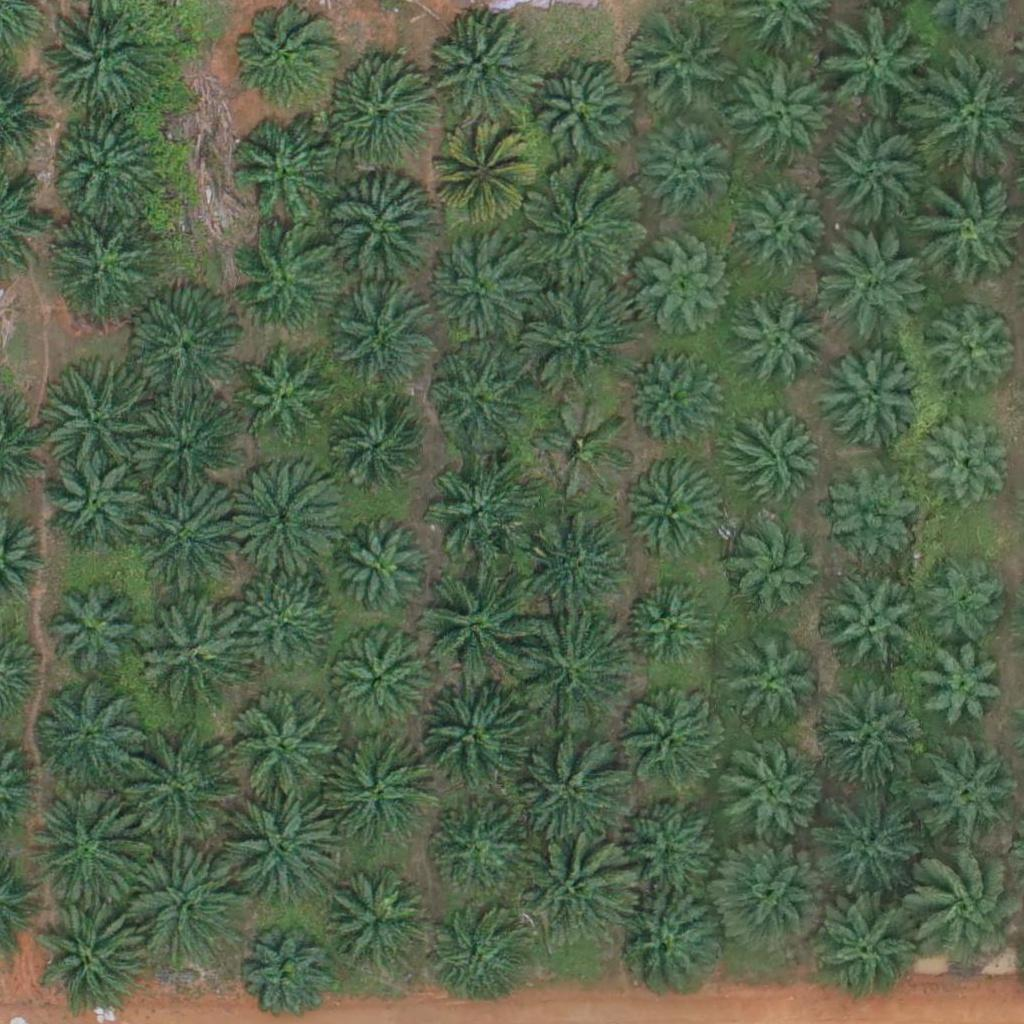Kelapa_Sawit: (418, 677, 531, 791), (225, 461, 338, 575), (134, 477, 247, 591), (128, 854, 241, 968), (25, 794, 138, 908), (51, 104, 164, 218), (42, 9, 155, 123), (817, 117, 930, 230), (811, 686, 924, 799), (811, 787, 924, 900), (807, 894, 920, 1007), (512, 731, 625, 844), (515, 502, 628, 615), (519, 282, 632, 395), (523, 170, 636, 283), (417, 571, 530, 684), (326, 177, 439, 290), (320, 735, 433, 848), (228, 119, 341, 232), (230, 696, 343, 809), (139, 595, 252, 708), (820, 13, 933, 126), (522, 58, 635, 171), (816, 234, 928, 348), (515, 616, 627, 730), (231, 224, 343, 338), (32, 678, 144, 792), (910, 173, 1022, 286), (907, 738, 1019, 851), (716, 842, 828, 955), (610, 888, 722, 1001), (515, 836, 627, 949), (423, 450, 535, 563), (322, 872, 434, 985), (232, 793, 344, 906), (132, 299, 244, 412), (121, 728, 233, 841), (37, 905, 149, 1018), (43, 207, 155, 320), (43, 355, 155, 468), (728, 46, 840, 159), (622, 9, 734, 122), (425, 15, 537, 128), (315, 59, 427, 172), (923, 295, 1023, 396), (823, 350, 923, 451), (827, 579, 927, 680), (728, 292, 828, 393), (720, 412, 820, 513), (725, 512, 825, 613), (721, 744, 821, 845), (626, 347, 726, 448), (623, 463, 723, 564), (622, 689, 722, 790), (424, 236, 524, 337), (426, 348, 526, 449), (430, 801, 530, 902), (427, 910, 527, 1011), (332, 293, 432, 394), (327, 633, 427, 734), (233, 348, 333, 449), (44, 583, 144, 684), (45, 453, 145, 554), (819, 462, 919, 562), (629, 242, 729, 342), (623, 791, 723, 891), (535, 398, 635, 498), (430, 130, 530, 230), (324, 407, 424, 507), (235, 580, 335, 680), (135, 396, 235, 496), (337, 527, 425, 616), (625, 588, 713, 676), (921, 416, 1008, 504), (921, 557, 1008, 645), (918, 645, 1005, 733), (740, 187, 827, 275), (729, 640, 816, 728), (642, 132, 729, 220), (240, 934, 327, 1022)
